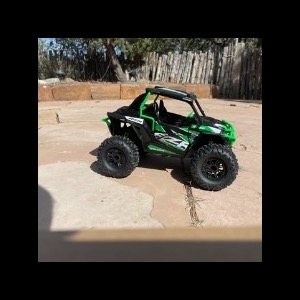polaris: (96, 83, 240, 196)
